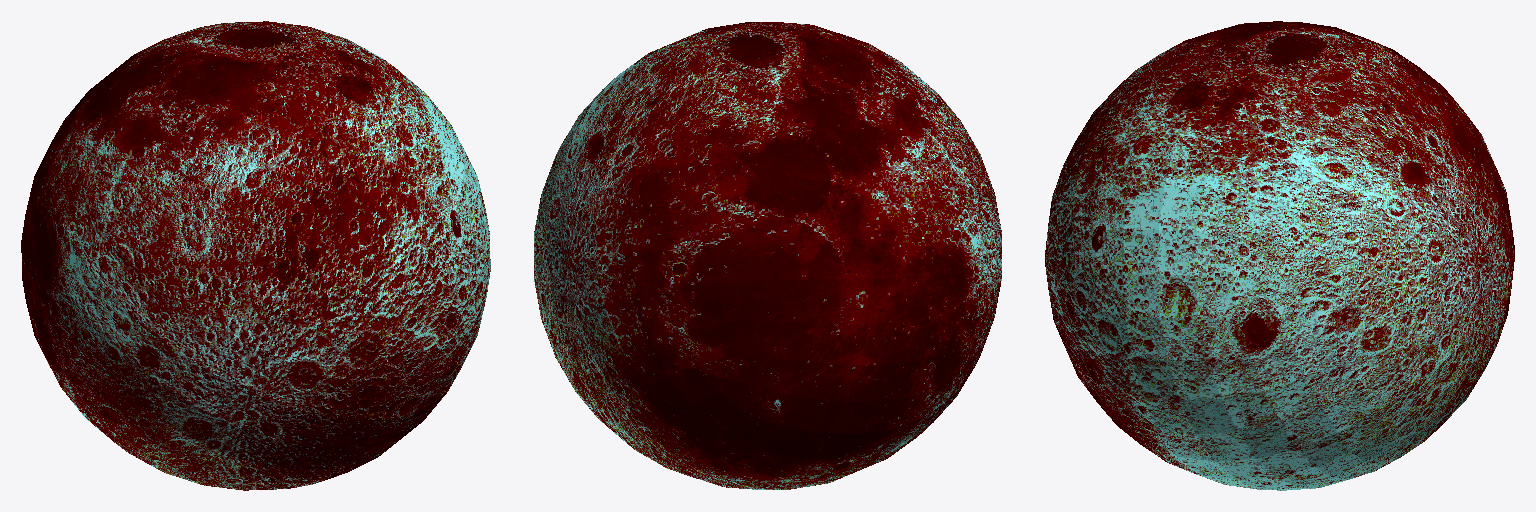
3 views of the same model, side by side, from view 1: azimuth 30°, elevation 25°; view 2: azimuth 150°, elevation 25°; view 3: azimuth 270°, elevation 25° (orthographic).
Parts seen in each view (by area): view 1: moon_key; view 2: moon_key; view 3: moon_key.
Boxes of the visible parts, x1,y1,x2,y2 form: moon_key: [21, 21, 490, 490]; moon_key: [534, 22, 1001, 489]; moon_key: [1045, 21, 1514, 490].
Size of the model in its own units: 0.6987 by 0.6978 by 0.7001.
1 materials, 1 textured.